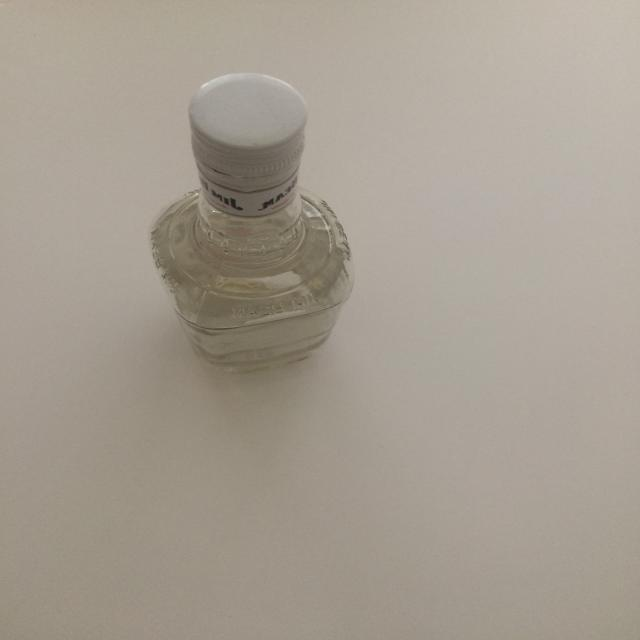glass: (149, 71, 356, 373)
